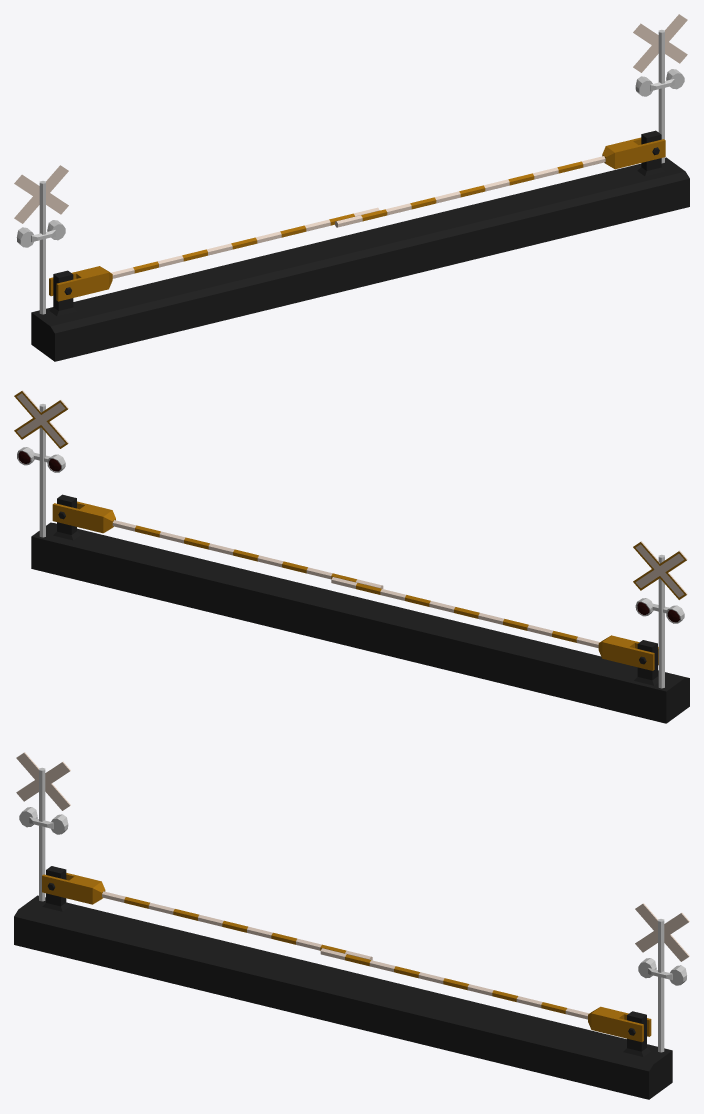
Rendered from railwayCrossing.FBX.
The picture shows the model from 3 angles, top to bottom: view 1: azimuth 30°, elevation 25°; view 2: azimuth 150°, elevation 25°; view 3: azimuth 330°, elevation 25°; orthographic projection.
Visible parts, largest first — view 1: railwayCrossing, barrier_l, barrier_r, sign_r, sign_l, gate_r, gate_l; view 2: railwayCrossing, barrier_r, barrier_l, sign_r, sign_l, gate_r, gate_l; view 3: railwayCrossing, barrier_l, barrier_r, sign_l, sign_r, gate_l, gate_r.
Boxes of the visible parts, x1,y1,x2,y2 form: railwayCrossing: [31, 157, 689, 361]; barrier_l: [335, 137, 665, 227]; barrier_r: [49, 207, 379, 301]; sign_r: [14, 165, 68, 314]; sign_l: [633, 14, 687, 163]; gate_r: [49, 270, 76, 316]; gate_l: [637, 130, 664, 176]; railwayCrossing: [31, 522, 689, 723]; barrier_r: [331, 577, 658, 670]; barrier_l: [52, 501, 383, 588]; sign_r: [633, 541, 687, 688]; sign_l: [14, 390, 68, 537]; gate_r: [634, 640, 658, 685]; gate_l: [53, 494, 80, 540]; railwayCrossing: [14, 895, 672, 1099]; barrier_l: [320, 948, 651, 1042]; barrier_r: [42, 873, 372, 960]; sign_l: [635, 903, 689, 1052]; sign_r: [16, 752, 70, 901]; gate_l: [623, 1011, 650, 1056]; gate_r: [42, 866, 69, 911].
Size of the model in its own units: 212 by 52.39 by 13.8.
